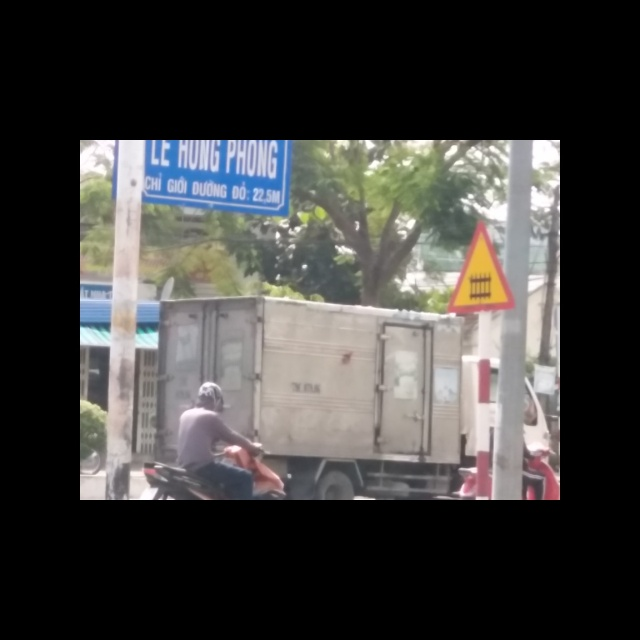Giao nhau với đường sắt có rào chắn: (448, 218, 517, 313)
